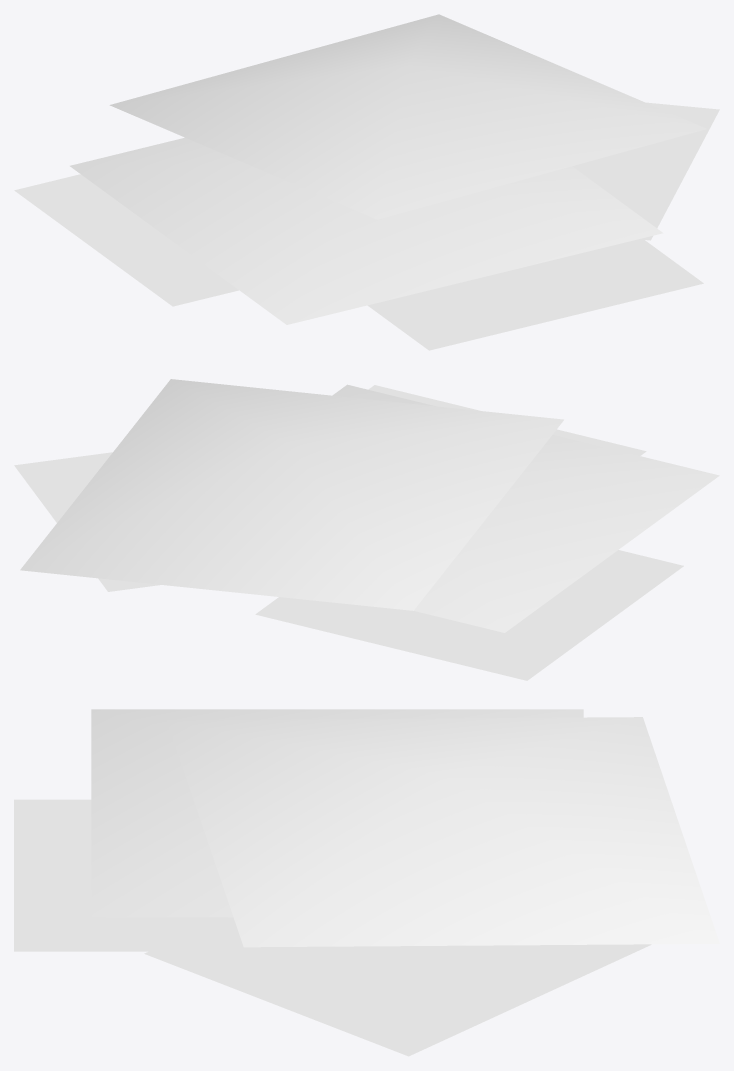
File: Beidaying_zhiwu01.FBX
3 renders of one model, top to bottom at view 1: azimuth 30°, elevation 25°; view 2: azimuth 150°, elevation 25°; view 3: azimuth 270°, elevation 25°, orthographic. The views are drawn at different scales.
Parts seen in each view (by area): view 1: Beidaying_zhiwu01; view 2: Beidaying_zhiwu01; view 3: Beidaying_zhiwu01.
Boxes of the visible parts, box(x1,y1,x2,y2) form: Beidaying_zhiwu01: box(14, 14, 719, 350); Beidaying_zhiwu01: box(14, 379, 719, 680); Beidaying_zhiwu01: box(14, 709, 719, 1056).
Bounding box in the file's own units: 391 × 345 × 63.4.
